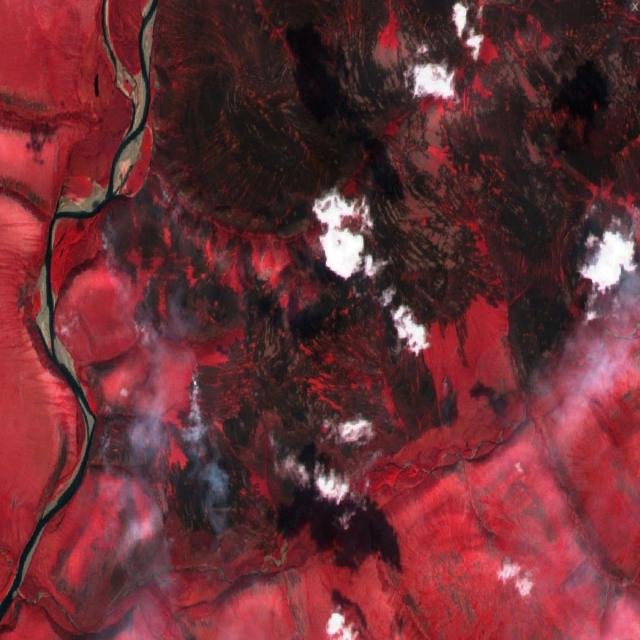fire: (78, 146, 307, 574), (544, 186, 640, 424)
